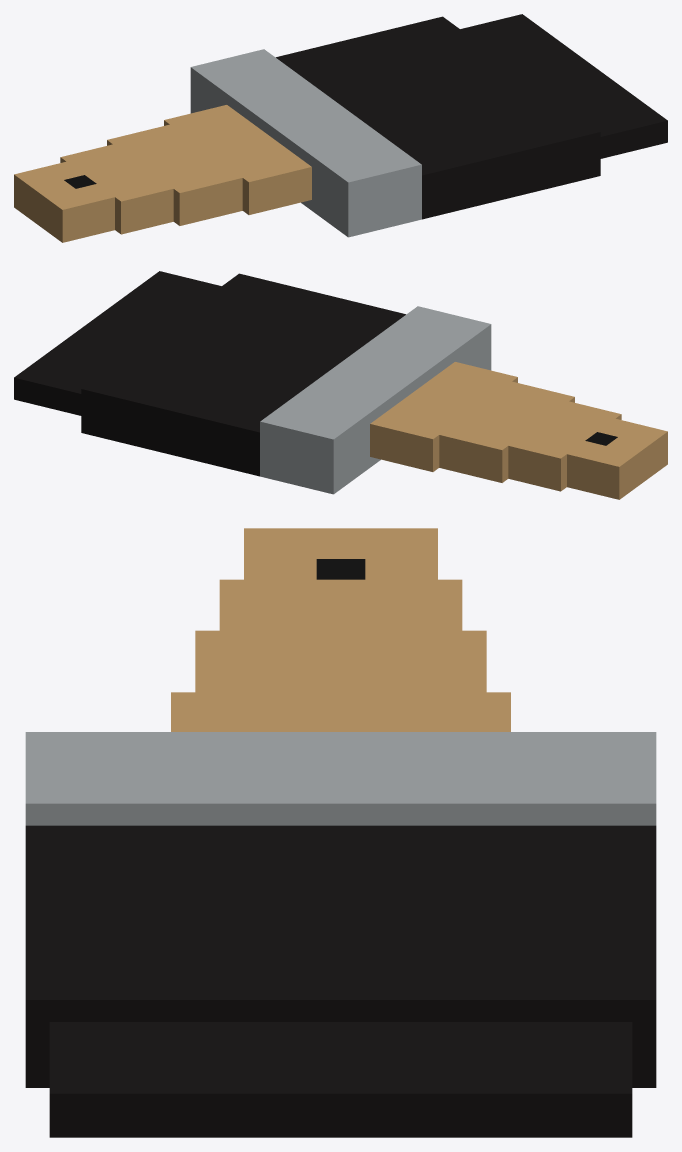
The model's file is paint_brush.glb.
3 views of the same model, one above another, from view 1: azimuth 30°, elevation 25°; view 2: azimuth 150°, elevation 25°; view 3: azimuth 270°, elevation 25° (orthographic). The views are drawn at different scales.
Visible parts, largest first — view 1: paint_brush:compound; view 2: paint_brush:compound; view 3: paint_brush:compound.
Boxes of the visible parts, <box> form: paint_brush:compound: <box>14,14,667,242</box>; paint_brush:compound: <box>14,271,667,499</box>; paint_brush:compound: <box>25,528,656,1137</box>.
Bounding box in the file's own units: 0.212 × 0.02 × 0.104.
